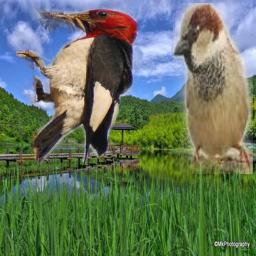Sparrow: (173, 3, 253, 174)
Woodpecker: (16, 8, 138, 165)
